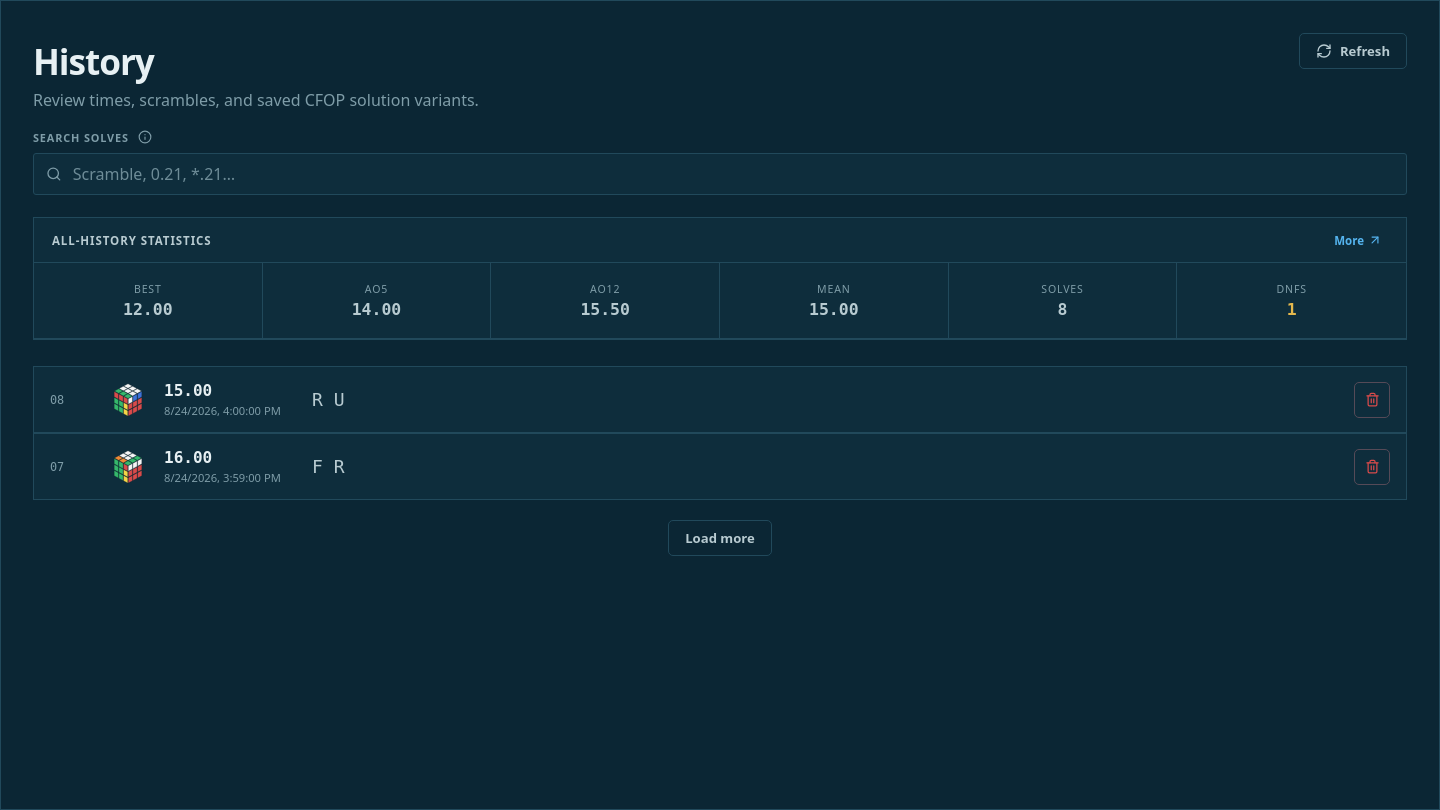
Test: HistoryView filters › loads search results, appends without duplicates, and uses the local cursor
In the search field labelled "Search solves": (733, 174) x1=71 y1=154 x2=1396 y2=194, type "R"
Wait 300 ms
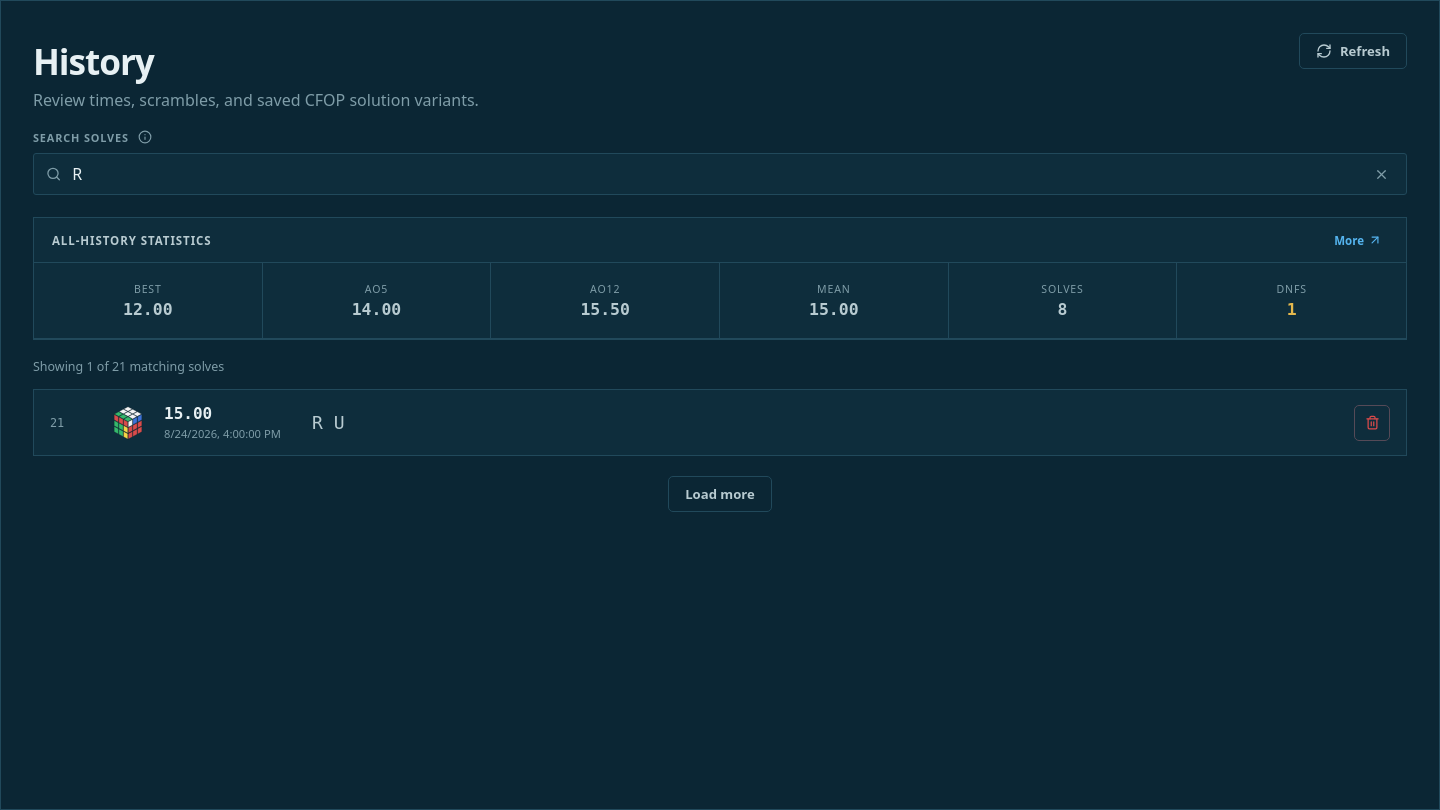
Check: the text "Showing 1 of 21 matching solves" is shown, box x1=33 y1=358 x2=224 y2=375
Click the button "Load more": (720, 494) x1=668 y1=476 x2=772 y2=512
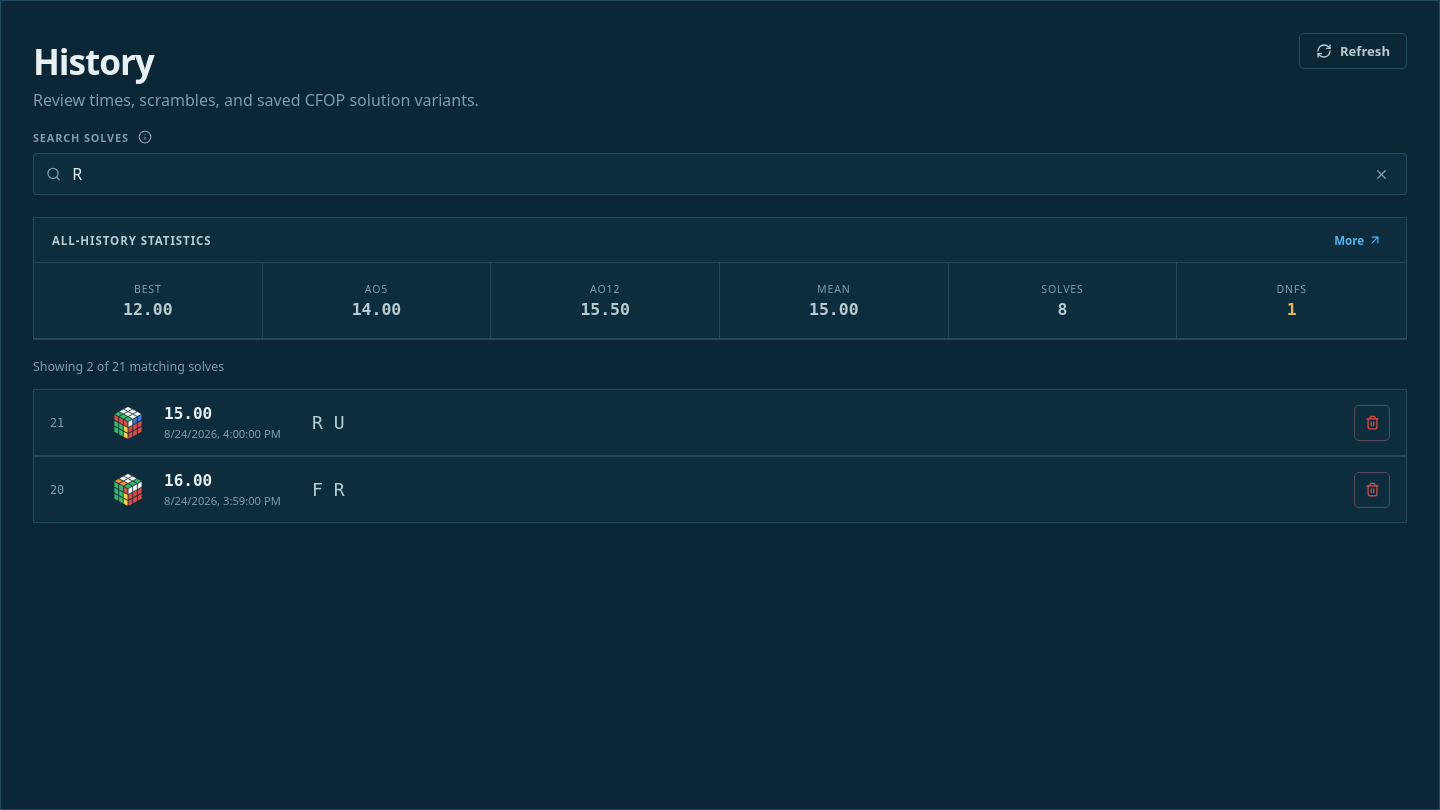
Check: the text "Showing 2 of 21 matching solves" is shown, box x1=33 y1=358 x2=224 y2=375
Check: the number of buttons named "Open solution for solve" is 2, box x1=50 y1=404 x2=1342 y2=441; x1=50 y1=471 x2=1342 y2=508
Check: the button "Load more" is gone
